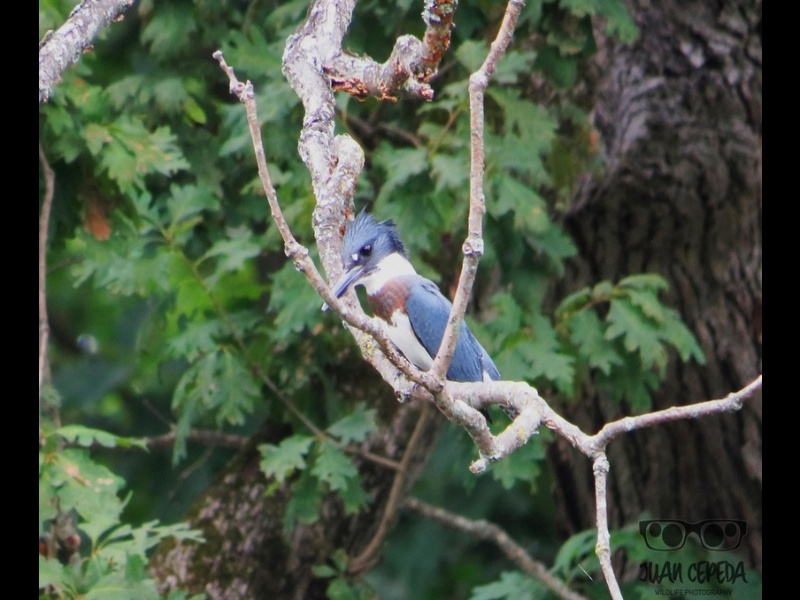kingfisher: (318, 206, 503, 428)
